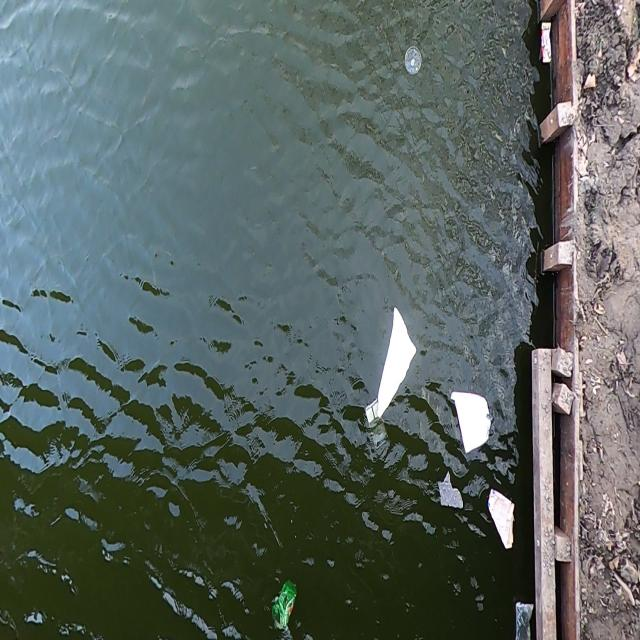Autre plastique: (401, 38, 425, 83)
Sac plastique: (264, 574, 304, 634)
